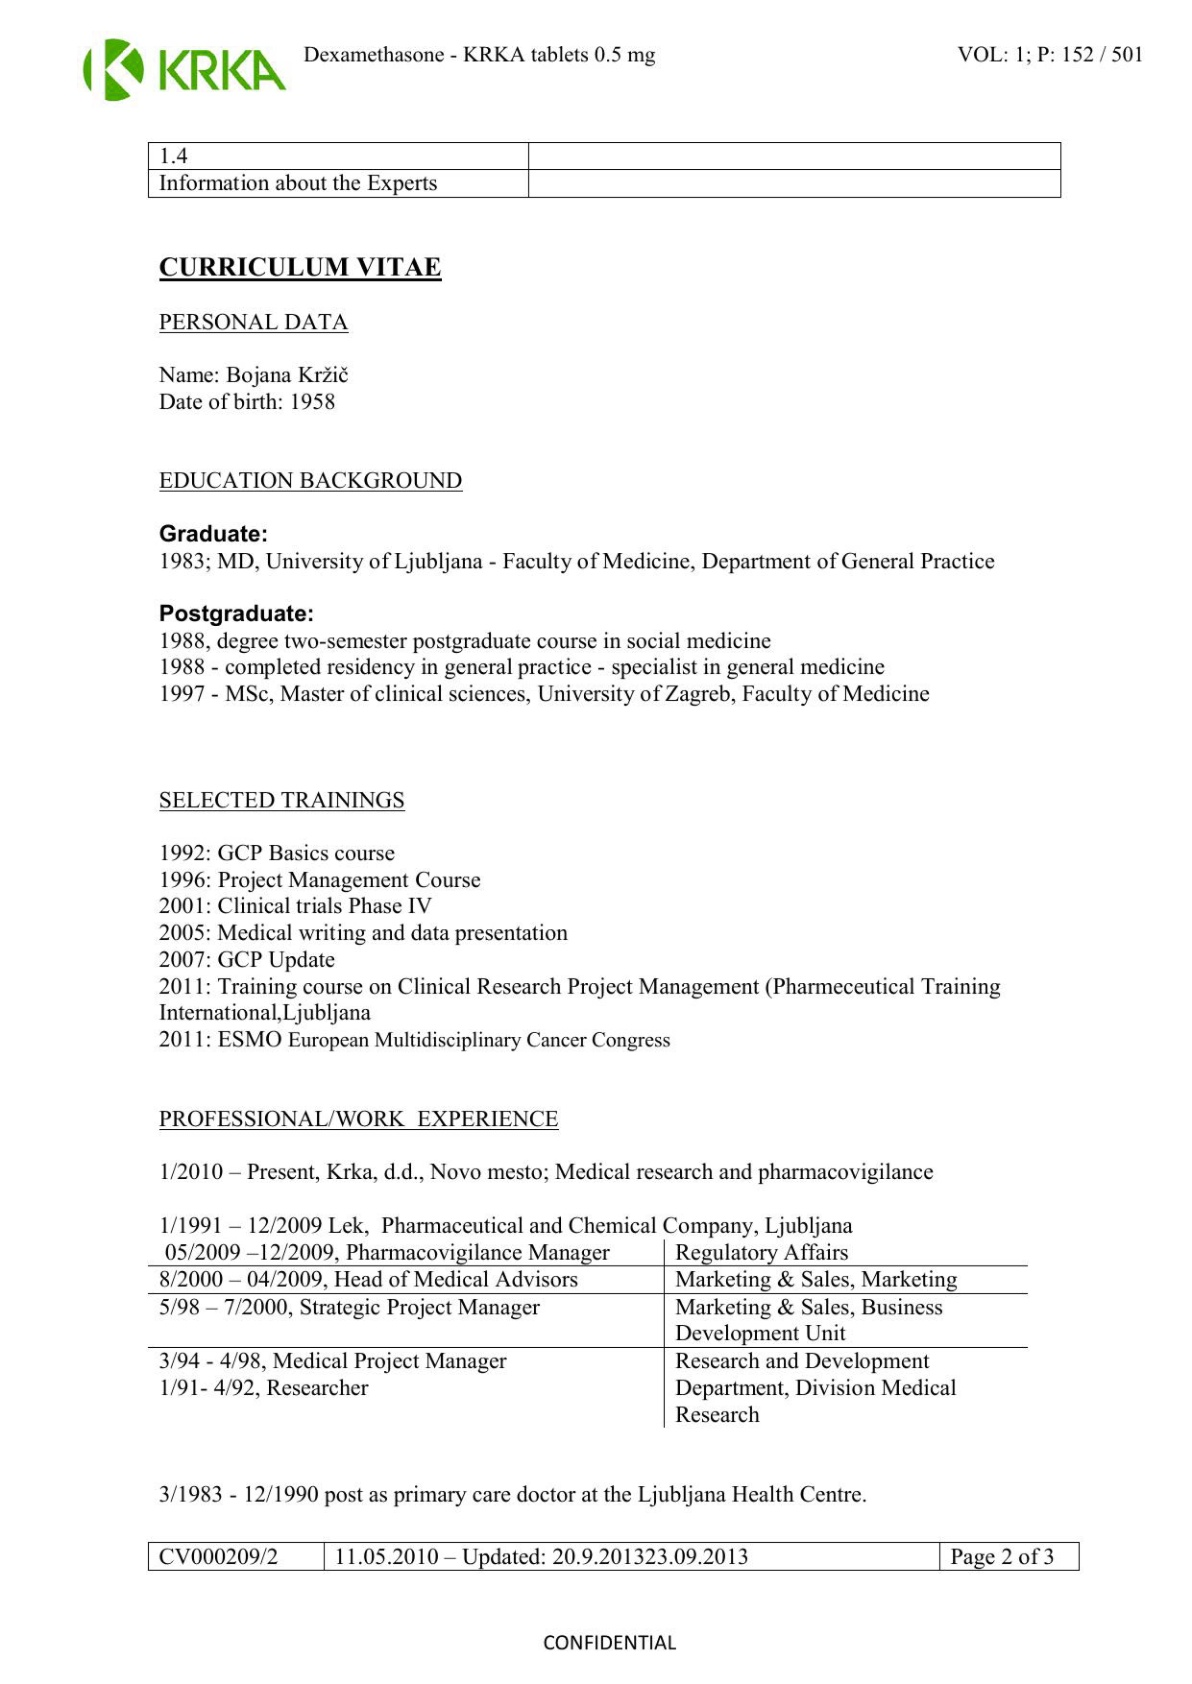full_lined: (147, 141, 1062, 199), (146, 1541, 1081, 1572)
partial_lined: (147, 1240, 1029, 1427)
